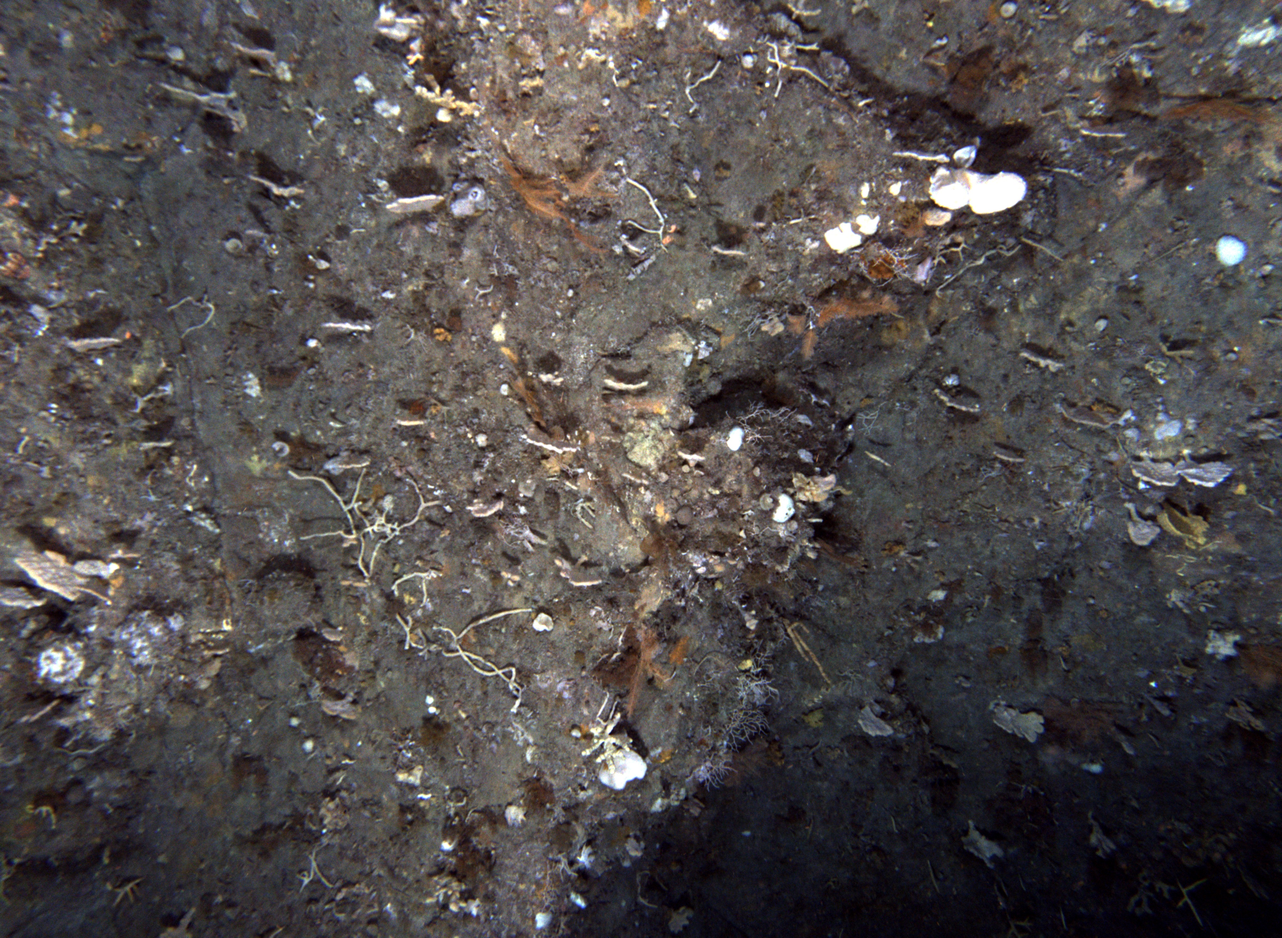Brachionichthyidae: (0, 248, 34, 282)
